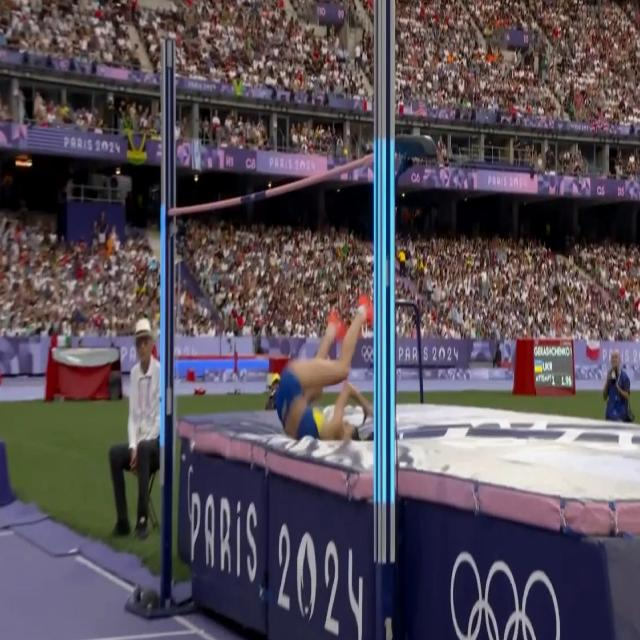land: (275, 294, 374, 439)
